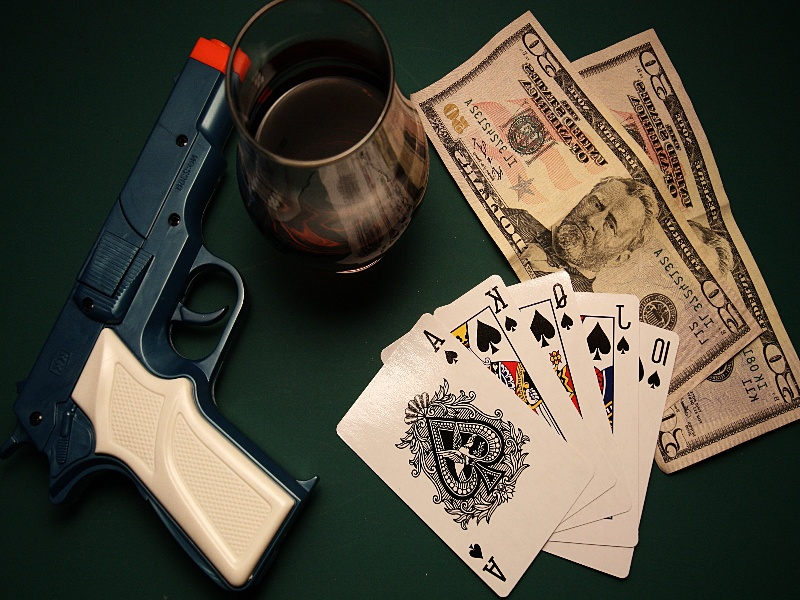cash: (409, 9, 800, 475)
weapon: (5, 37, 319, 596)
